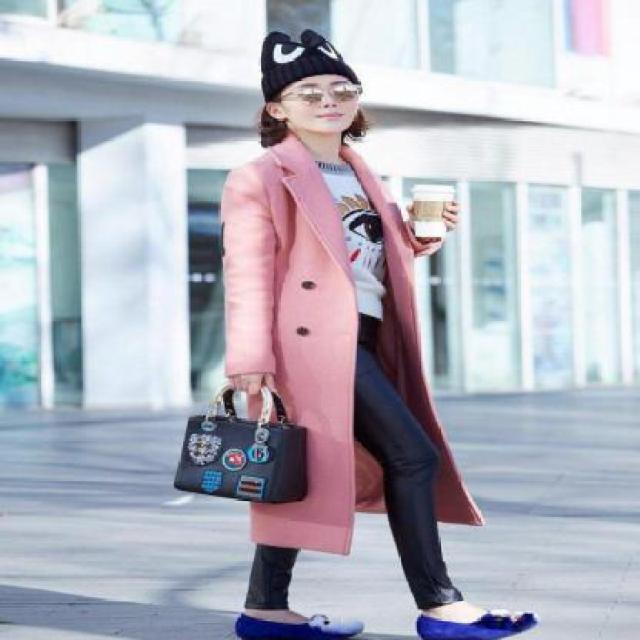Person: (191, 12, 551, 639)
